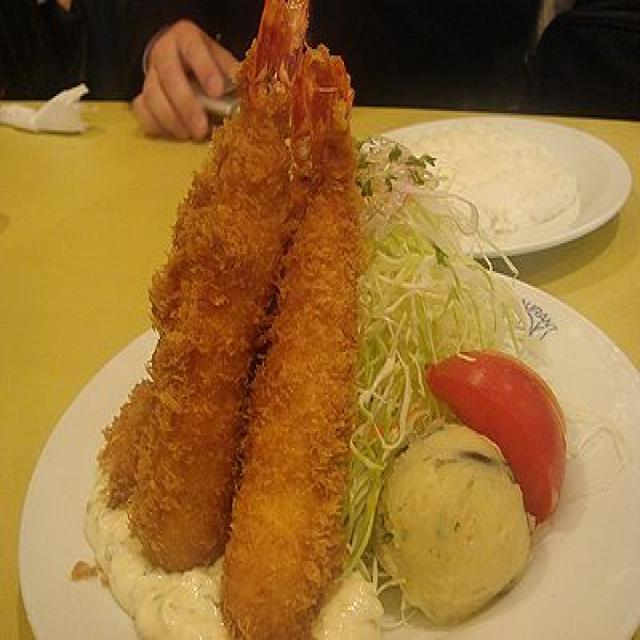炸货点心: (99, 0, 387, 640)
熟制海鲜: (99, 0, 387, 640)
